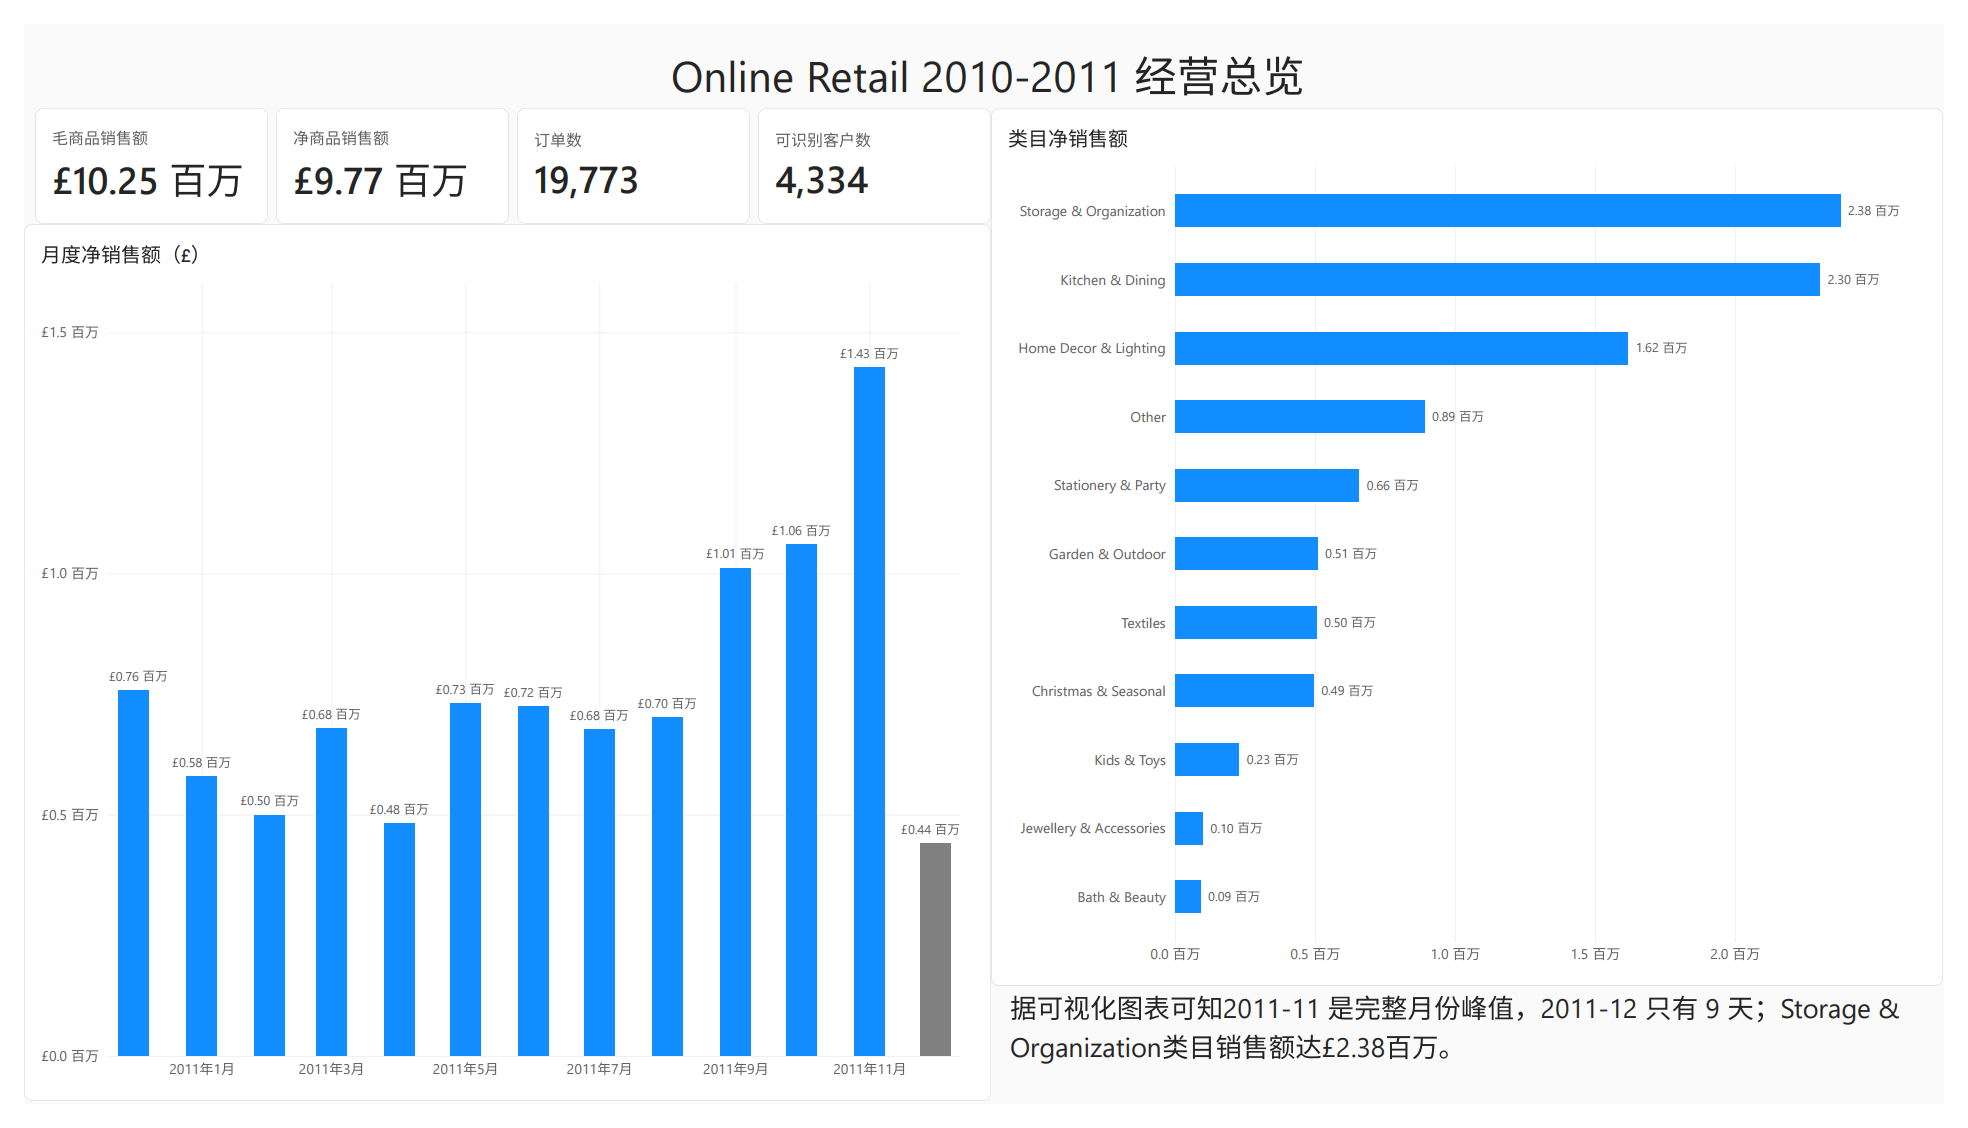

This screenshot's page, from the dashboard's own definition file:
{"tool":"powerbi","page":{"name":"第 1 页","canvas":[1920,1080],"ordinal":0},"visuals":[{"type":"textbox","box":[9.1,0,1910.2,86.3],"z":0},{"type":"clusteredColumnChart","title":"月度净销售额（£）","fields":{"Category":["月度.month_key"],"Y":["Sum(月度.net_revenue)"]},"box":[0,199.7,967,877.7],"z":1000},{"type":"cardVisual","fields":{"Data":["Sum(KPI.total_gross_revenue)","Sum(KPI.total_net_revenue)","Sum(KPI.total_orders)","Sum(KPI.total_customers)"]},"box":[10.5,84.1,956.5,115.6],"z":2000},{"type":"clusteredBarChart","title":"类目净销售额","fields":{"Category":["类目.category"],"Y":["Sum(类目.net_revenue)"]},"box":[967,84.1,952,878],"z":3000},{"type":"textbox","box":[985.7,963,933.5,113.6],"z":4000}]}

Visuals, with their boxes in screenshot pixels (x1, y1, x2, y2), scaled from the page's 1920x1080 canvas onto the 1968x1128 screenshot:
textbox: 9/0/1967/90
"月度净销售额（£）" clusteredColumnChart: 0/209/991/1125
cardVisual - Sum(KPI.total_gross_revenue) x Sum(KPI.total_net_revenue): 11/88/991/209
"类目净销售额" clusteredBarChart: 991/88/1967/1005
textbox: 1010/1006/1967/1124
